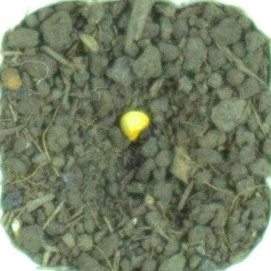pepper seed: (42, 37, 194, 181)
